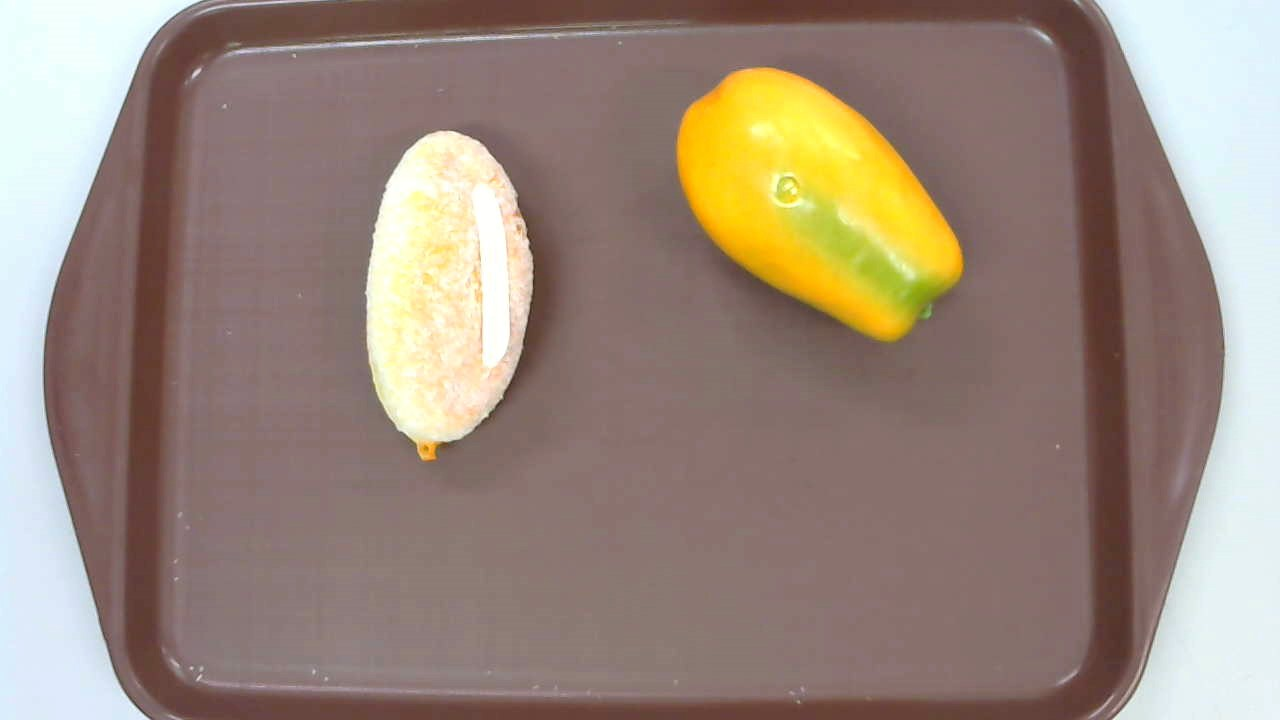coconut: (365, 128, 533, 461)
papya: (675, 66, 963, 342)
